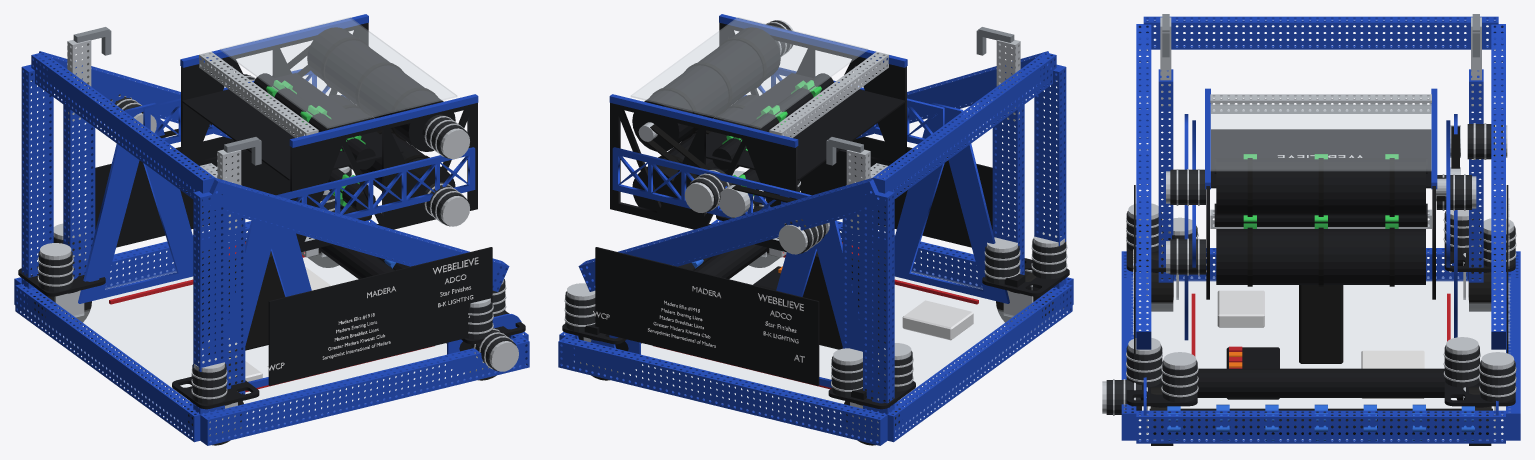
3 views of the same model, side by side, from view 1: azimuth 30°, elevation 25°; view 2: azimuth 150°, elevation 25°; view 3: azimuth 270°, elevation 25° (orthographic). The views are drawn at different scales.
Parts seen in each view (by area): view 1: body.blue_tube, body.black, pivot.black, pivot.polycarb, body.blue_anodized, body.polycarb, pivot.blue_anodized, body.kraken, body.kraken_cap, pivot.aluminum_tube, pivot.kraken_cap, body.aluminum_tube (+9 smaller); view 2: body.blue_tube, body.black, pivot.black, pivot.polycarb, body.blue_anodized, body.polycarb, pivot.blue_anodized, body.kraken, body.kraken_cap, body.white, pivot.aluminum_tube, body.aluminum_tube (+11 smaller); view 3: body.blue_tube, pivot.black, body.polycarb, pivot.polycarb, body.black, body.kraken, body.kraken_cap, pivot.aluminum_tube, body.battery, pivot.kraken, pivot.blue_anodized, body.white (+11 smaller).
Part boxes in pixels (bbox=[...]): body.blue_tube: bbox=[14, 51, 529, 445]; body.black: bbox=[18, 136, 525, 434]; pivot.black: bbox=[181, 22, 477, 251]; pivot.polycarb: bbox=[220, 17, 456, 128]; body.blue_anodized: bbox=[78, 102, 522, 387]; body.polycarb: bbox=[24, 253, 525, 441]; pivot.blue_anodized: bbox=[143, 14, 478, 218]; body.kraken: bbox=[38, 94, 517, 404]; body.kraken_cap: bbox=[37, 95, 518, 399]; pivot.aluminum_tube: bbox=[199, 51, 318, 257]; pivot.kraken_cap: bbox=[243, 74, 469, 226]; body.aluminum_tube: bbox=[67, 39, 241, 229]; body.blue_tube: bbox=[558, 51, 1073, 445]; body.black: bbox=[562, 136, 1069, 434]; pivot.black: bbox=[610, 22, 906, 251]; pivot.polycarb: bbox=[631, 17, 867, 128]; body.blue_anodized: bbox=[565, 102, 1009, 387]; body.polycarb: bbox=[562, 253, 1063, 441]; pivot.blue_anodized: bbox=[609, 14, 944, 219]; body.kraken: bbox=[565, 180, 1066, 396]; body.kraken_cap: bbox=[564, 170, 1067, 391]; body.white: bbox=[593, 286, 973, 362]; pivot.aluminum_tube: bbox=[769, 51, 888, 257]; body.aluminum_tube: bbox=[846, 39, 1020, 229]; body.blue_tube: bbox=[1121, 16, 1520, 443]; pivot.black: bbox=[1206, 129, 1435, 299]; body.polycarb: bbox=[1131, 277, 1510, 439]; pivot.polycarb: bbox=[1210, 104, 1431, 170]; body.black: bbox=[1126, 185, 1515, 434]; body.kraken: bbox=[1106, 124, 1515, 414]; body.kraken_cap: bbox=[1102, 123, 1516, 415]; pivot.aluminum_tube: bbox=[1210, 94, 1431, 228]; body.battery: bbox=[1299, 285, 1343, 363]; pivot.kraken: bbox=[1170, 169, 1471, 274]; pivot.blue_anodized: bbox=[1192, 88, 1450, 267]; body.white: bbox=[1133, 199, 1509, 343].
Bounding box in the file's own units: 0.6884 × 0.5702 × 0.7191.
Materials: 19 (2 with a texture image).
